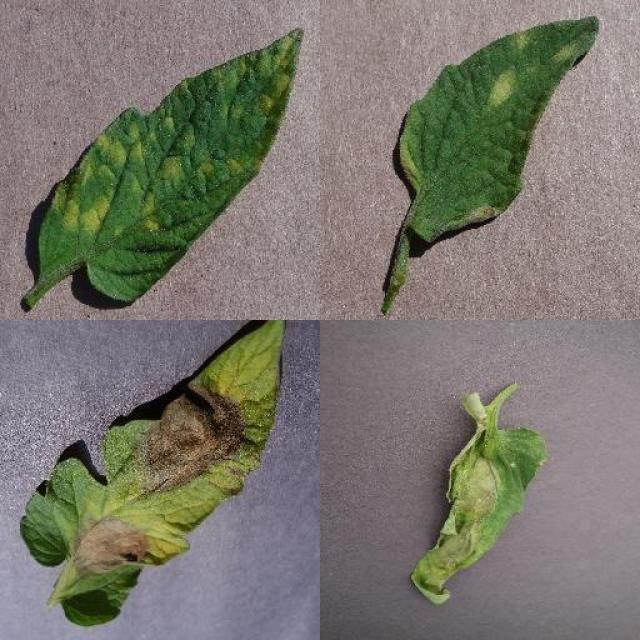Late Blight: (20, 320, 288, 625), (411, 426, 549, 606)
